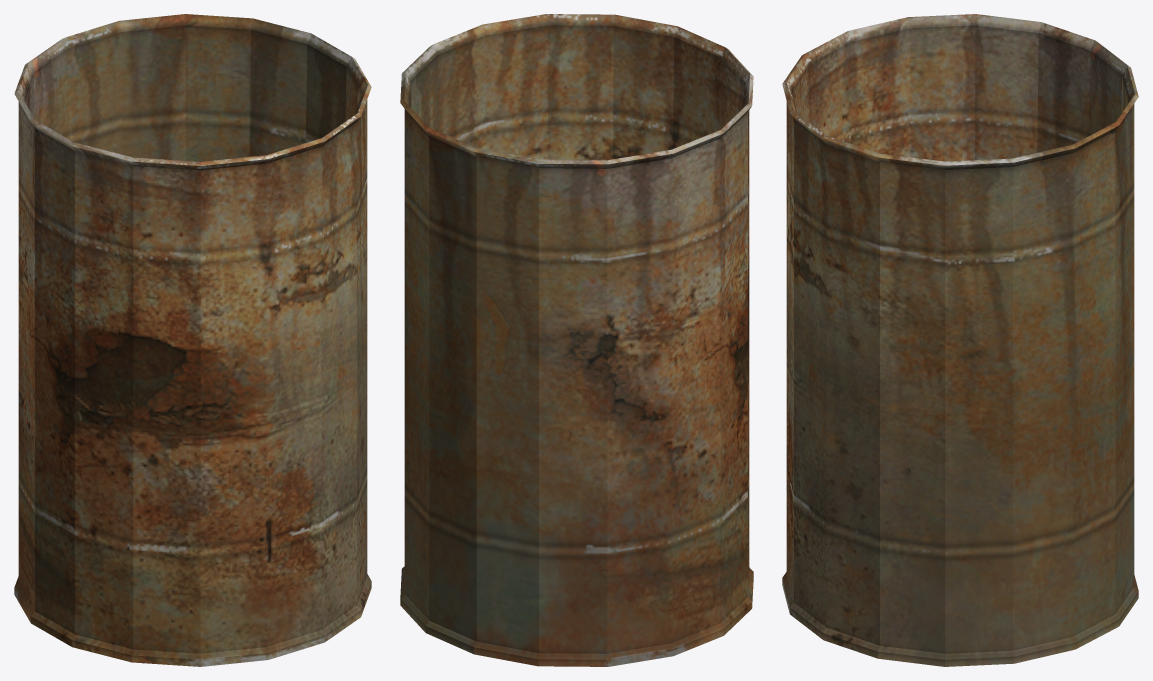
File: Barrel.FBX
3 views of the same model, side by side, from view 1: azimuth 30°, elevation 25°; view 2: azimuth 150°, elevation 25°; view 3: azimuth 270°, elevation 25° (orthographic).
Parts seen in each view (by area): view 1: barrel; view 2: barrel; view 3: barrel.
Part boxes in pixels (x1=…): barrel: x1=14, y1=14, x2=371, y2=666; barrel: x1=400, y1=14, x2=753, y2=666; barrel: x1=782, y1=14, x2=1138, y2=666.
Size of the model in its own units: 0.4826 by 0.7526 by 0.4826.
